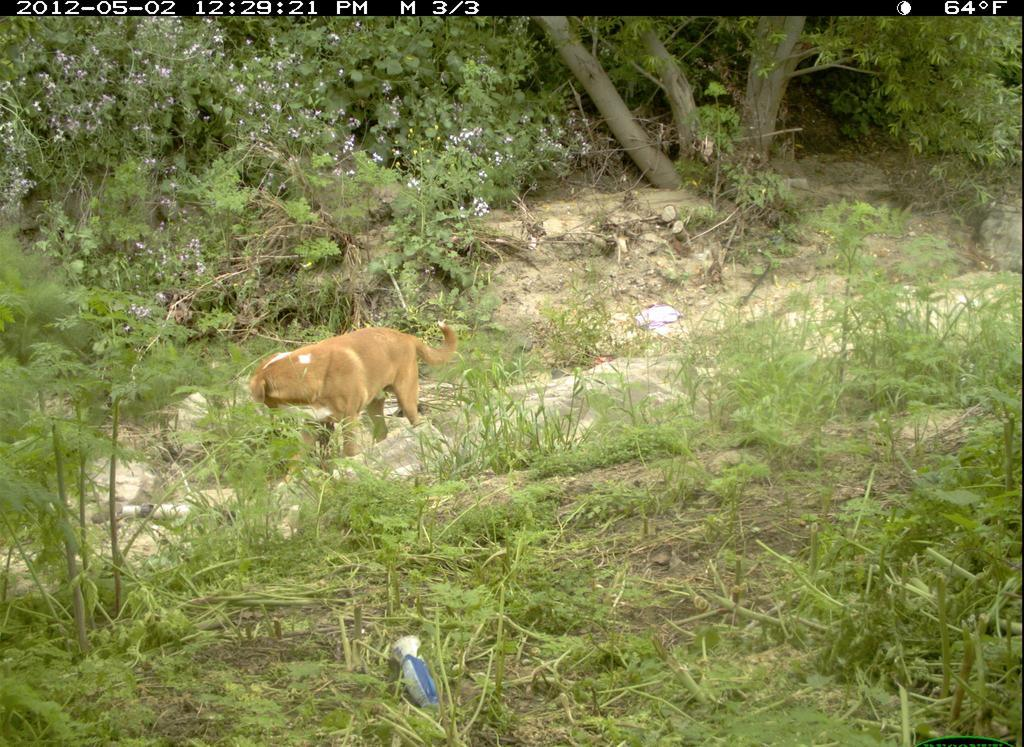dog: (249, 319, 460, 452)
